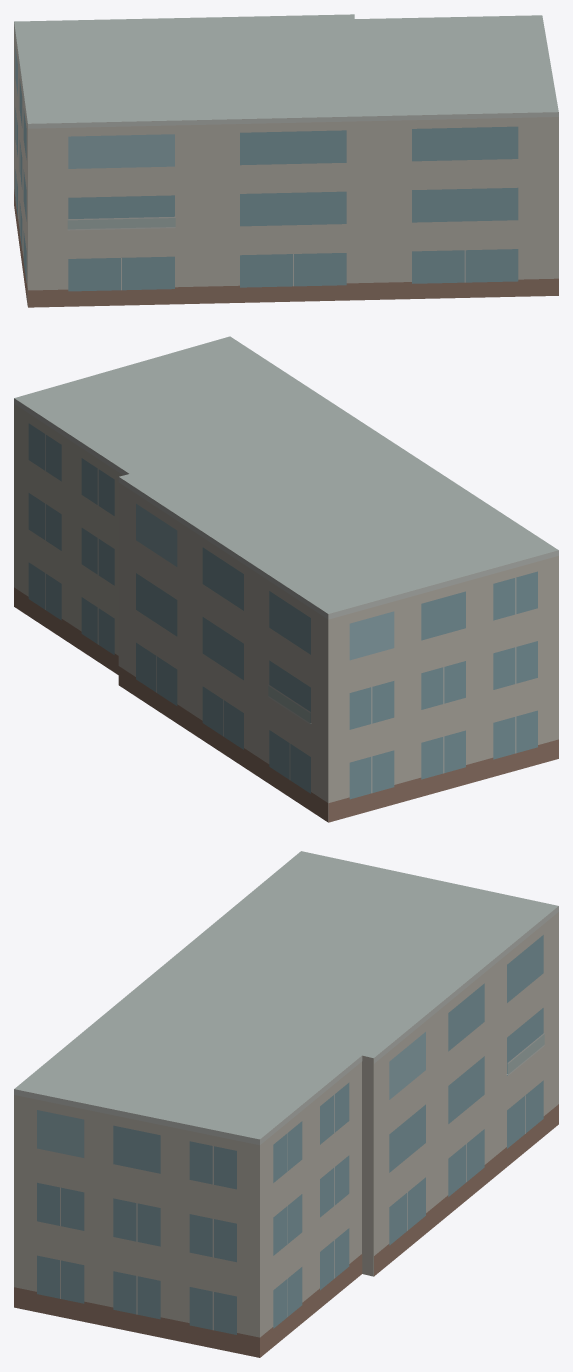
Rendered from survey-upis-32537684.glb.
The picture shows the model from 3 angles, top to bottom: view 1: azimuth 30°, elevation 25°; view 2: azimuth 150°, elevation 25°; view 3: azimuth 270°, elevation 25°; orthographic projection. The views are drawn at different scales.
Parts seen in each view (by area): view 1: survey-upis-32537684.tmp; view 2: survey-upis-32537684.tmp; view 3: survey-upis-32537684.tmp.
Part boxes in pixels (x1,y1,x2,y2): survey-upis-32537684.tmp: (14,14,558,307); survey-upis-32537684.tmp: (14,336,558,822); survey-upis-32537684.tmp: (14,851,558,1357).
Bounding box in the file's own units: 25.93 × 9.15 × 20.69.
